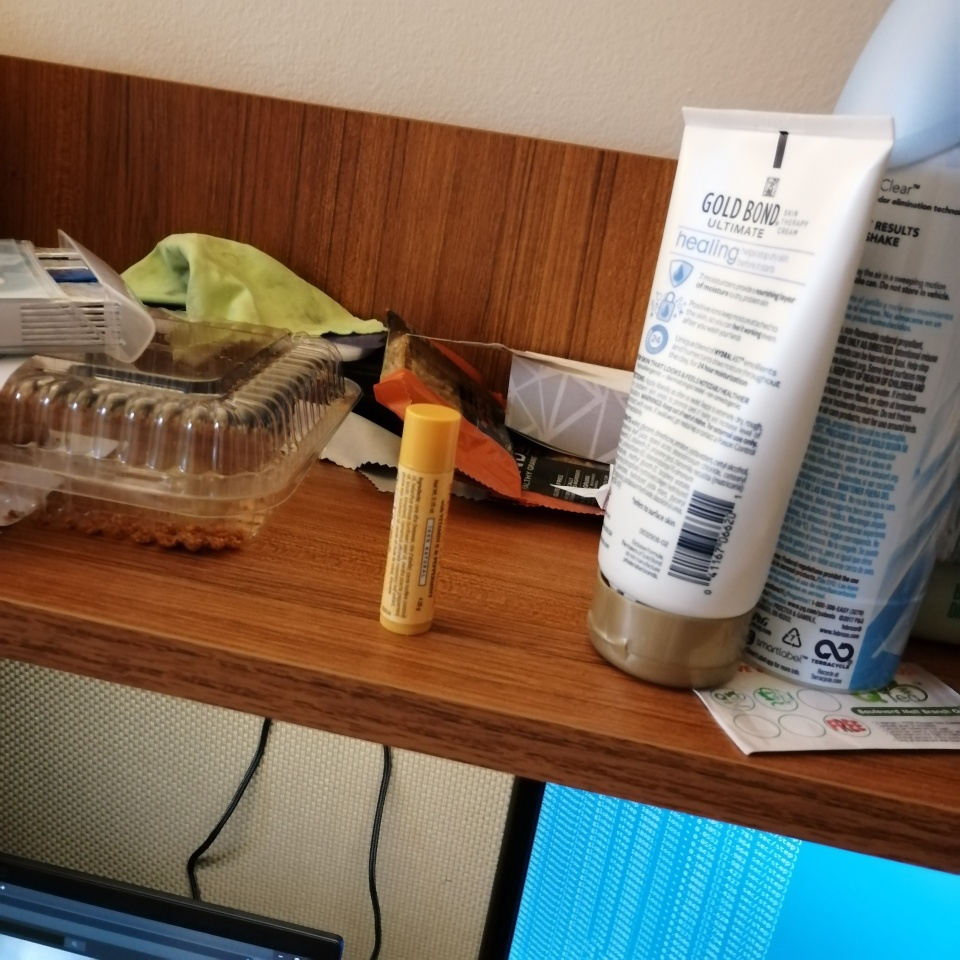chapstick: (379, 403, 462, 635)
